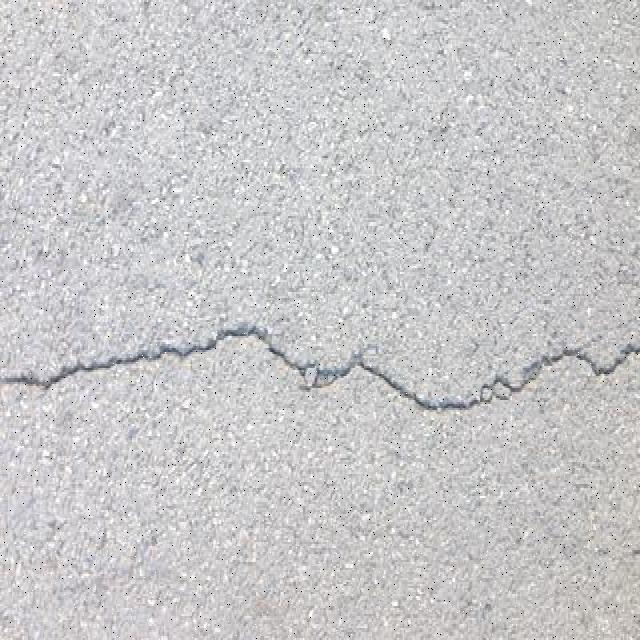crack: (1, 321, 638, 411), (7, 332, 204, 388)
